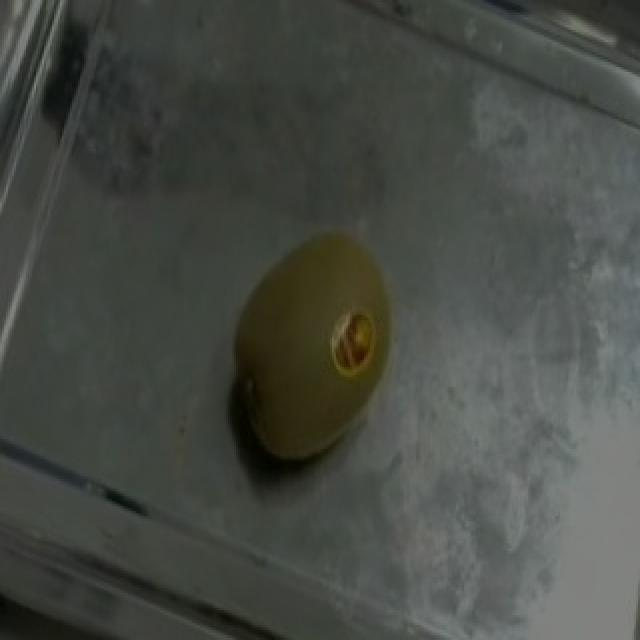Fruit: (186, 201, 438, 501)
